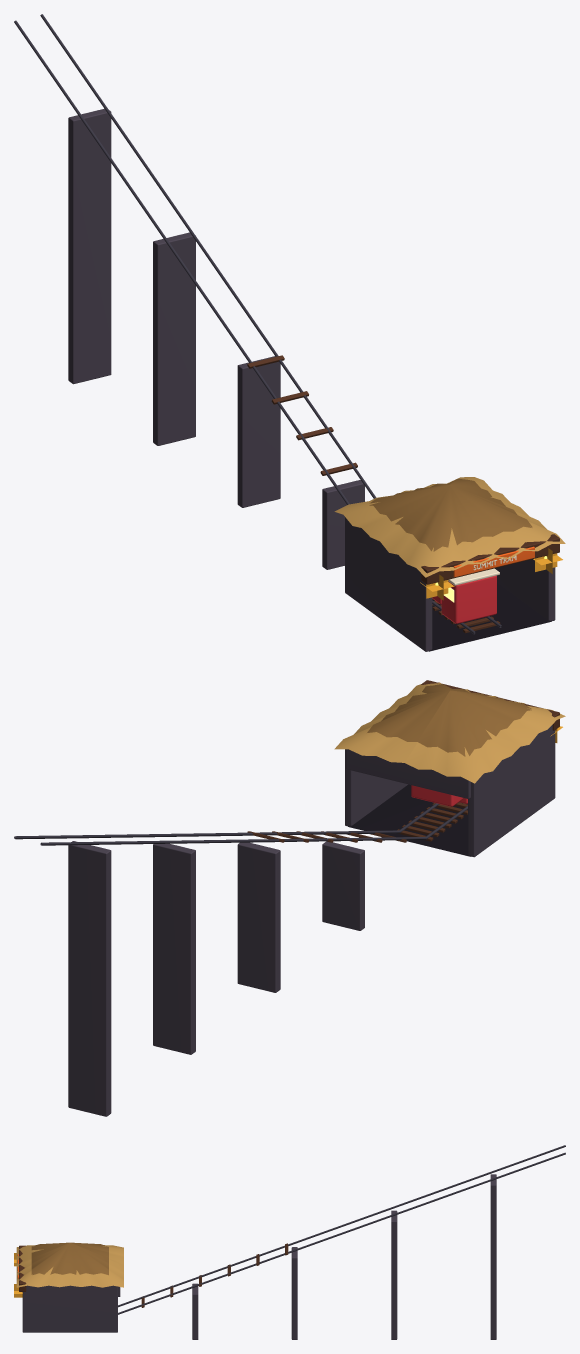
File: lava_funicular.glb
The picture shows the model from 3 angles, top to bottom: view 1: azimuth 30°, elevation 25°; view 2: azimuth 150°, elevation 25°; view 3: azimuth 270°, elevation 25°; orthographic projection. The views are drawn at different scales.
Parts seen in each view (by area): view 1: Funicular; view 2: Funicular; view 3: Funicular.
Boxes of the visible parts, left/top/right/bottom form: Funicular: left=14, top=14, right=565, bottom=651; Funicular: left=14, top=680, right=565, bottom=1116; Funicular: left=14, top=1145, right=565, bottom=1339.
Size of the model in its own units: 8 by 17.2 by 46.34.
